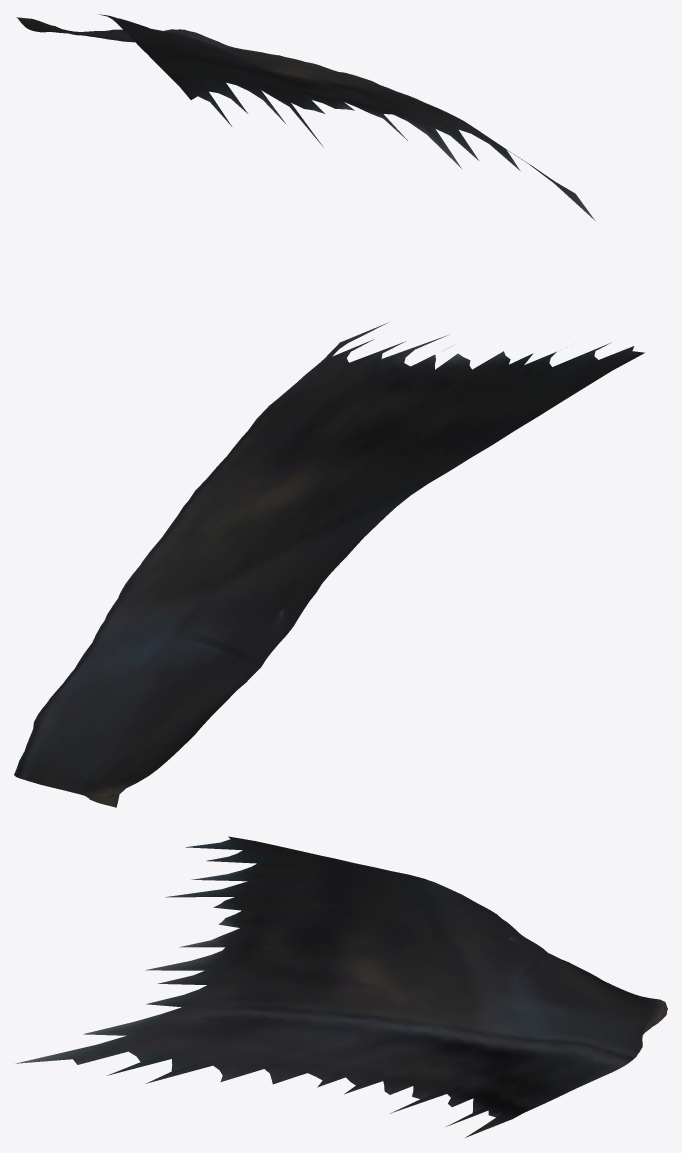
Rendered from observed-surface.glb.
3 views of the same model, one above another, from view 1: azimuth 30°, elevation 25°; view 2: azimuth 150°, elevation 25°; view 3: azimuth 270°, elevation 25° (orthographic). The views are drawn at different scales.
Parts seen in each view (by area): view 1: geometry_0; view 2: geometry_0; view 3: geometry_0.
Part boxes in pixels (bbox=[...]): geometry_0: bbox=[16, 14, 595, 221]; geometry_0: bbox=[14, 322, 644, 807]; geometry_0: bbox=[16, 836, 667, 1137].
Size of the model in its own units: 0.5798 by 0.4747 by 1.36.
Materials: 1 (1 with a texture image).
